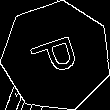P_E: (26, 31, 86, 82)
